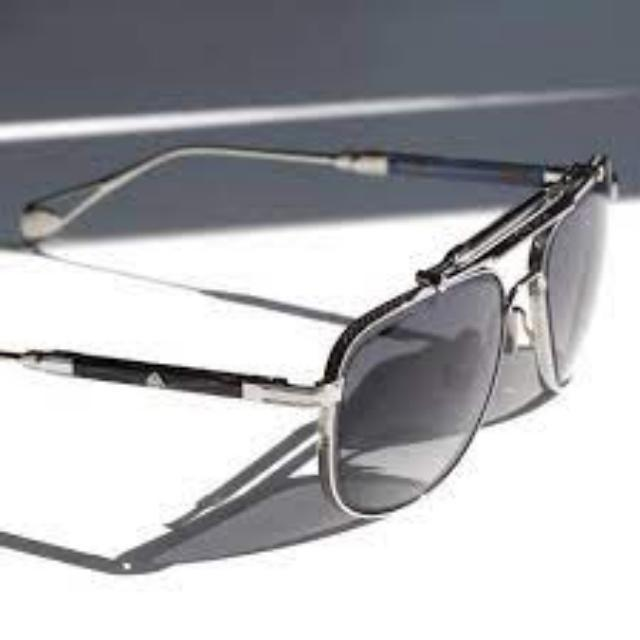glasses: (0, 140, 628, 520)
